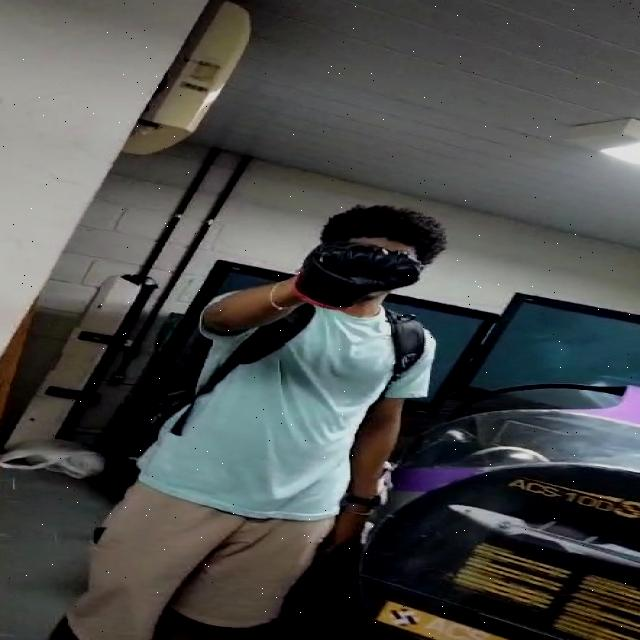Gloves: (294, 243, 425, 309)
